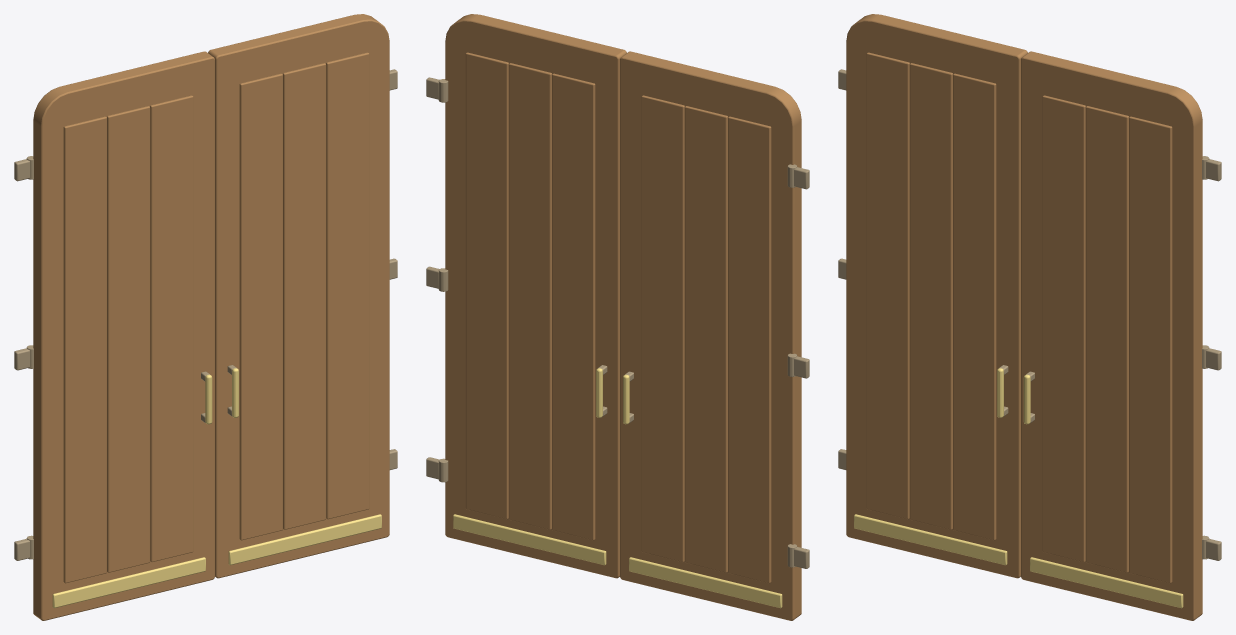
Rendered from Habitat_Doors_01.fbx.
The picture shows the model from 3 angles, left to right: view 1: azimuth 30°, elevation 25°; view 2: azimuth 150°, elevation 25°; view 3: azimuth 330°, elevation 25°; orthographic projection.
Visible parts, largest first — view 1: Door_Left_Geometry, Door_Right_Geometry, Door_Fixed_Geometry; view 2: Door_Left_Geometry, Door_Right_Geometry, Door_Fixed_Geometry; view 3: Door_Right_Geometry, Door_Left_Geometry, Door_Fixed_Geometry.
Boxes of the visible parts, x1,y1,x2,y2 form: Door_Left_Geometry: (26,51,214,620); Door_Right_Geometry: (208,14,389,578); Door_Fixed_Geometry: (14,69,397,560); Door_Left_Geometry: (620,51,801,620); Door_Right_Geometry: (438,14,626,578); Door_Fixed_Geometry: (426,77,809,568); Door_Right_Geometry: (1021,51,1209,620); Door_Left_Geometry: (846,14,1027,578); Door_Fixed_Geometry: (838,69,1221,560).
Bounding box in the file's own units: 2.99 × 3.93 × 0.33.
